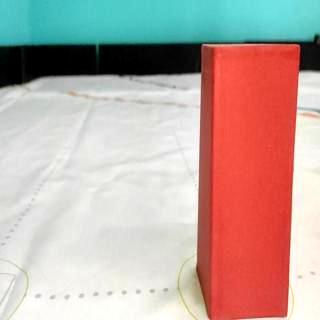redbox: (196, 40, 300, 320)
